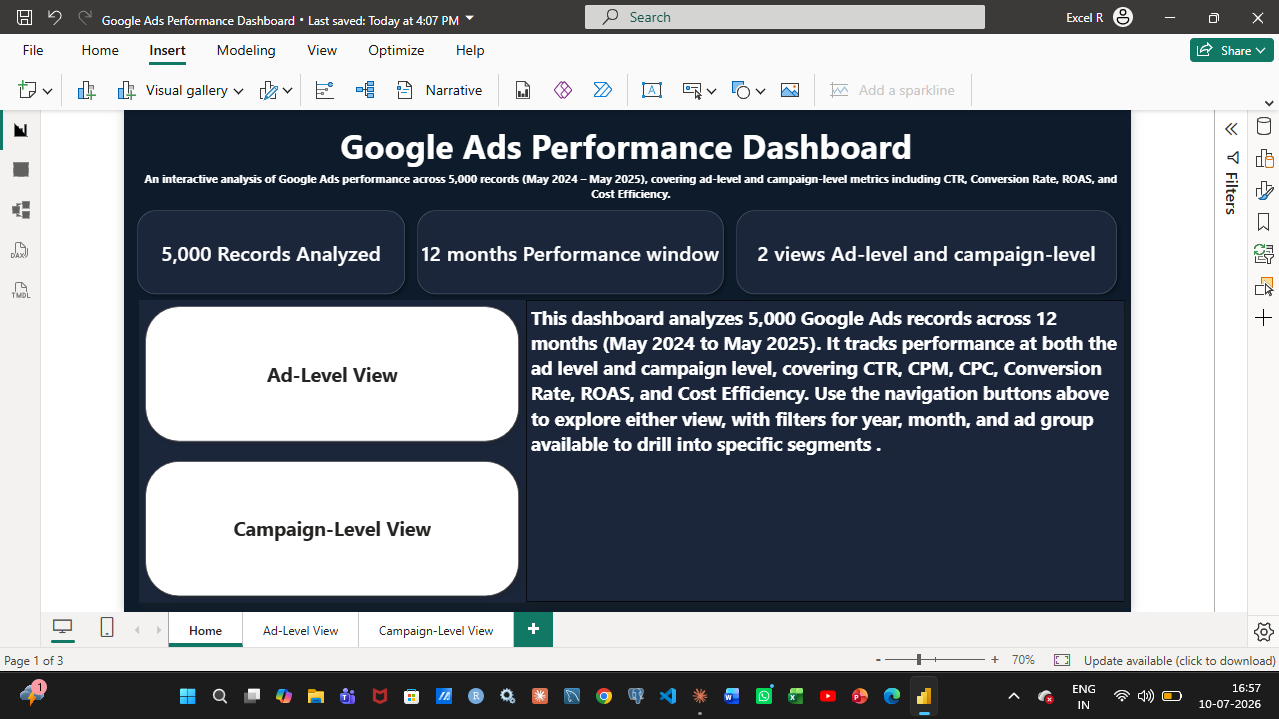

This screenshot's page, from the dashboard's own definition file:
{"tool":"powerbi","page":{"name":"Home","canvas":[1445,720],"ordinal":0},"visuals":[{"type":"textbox","box":[10,12.9,1434.3,80.3],"z":0},{"type":"textbox","box":[10,83.2,1434.3,53.1],"z":1000},{"type":"shape","box":[10.2,135.5,402,138.4],"z":2000},{"type":"shape","box":[869.6,135.5,563.7,138.4],"z":3000},{"type":"shape","box":[412.2,135.5,457.4,138.4],"z":4000},{"type":"pageNavigator","box":[21.8,272.4,555,434.1],"z":5000},{"type":"textbox","box":[576.6,272.5,857.7,433.1],"z":5001}]}

Visuals, with their boxes on the page's 1445x720 design canvas (x1, y1, x2, y2). These are canvas units, not pixel positions in the 1279x719 screenshot, which may show the page scaled, cropped or inside an application window:
textbox: pyautogui.locateOnScreen(10, 13, 1444, 93)
textbox: pyautogui.locateOnScreen(10, 83, 1444, 136)
shape: pyautogui.locateOnScreen(10, 136, 412, 274)
shape: pyautogui.locateOnScreen(870, 136, 1433, 274)
shape: pyautogui.locateOnScreen(412, 136, 870, 274)
pageNavigator: pyautogui.locateOnScreen(22, 272, 577, 706)
textbox: pyautogui.locateOnScreen(577, 272, 1434, 706)
